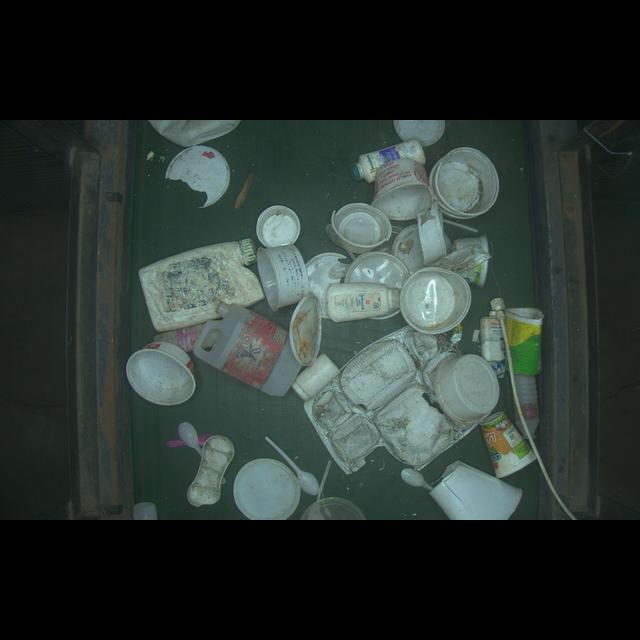PP: (476, 410, 539, 482)
